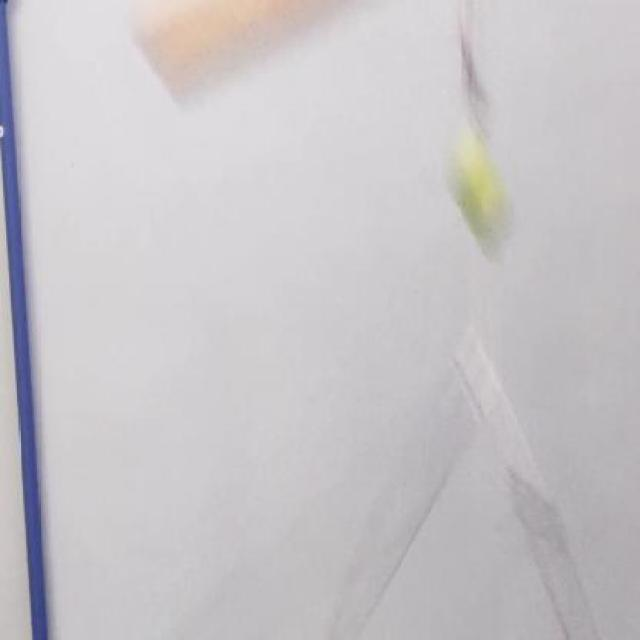baseball: (445, 134, 509, 248)
